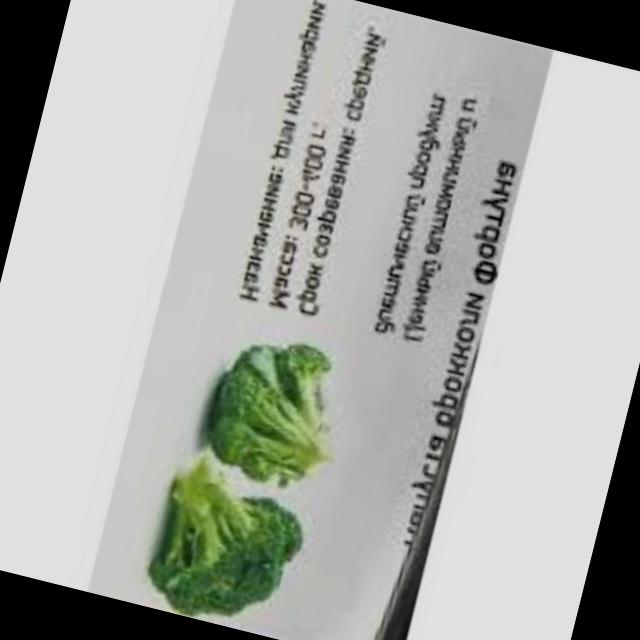Broccoli: (145, 422, 342, 640), (195, 293, 385, 499)
